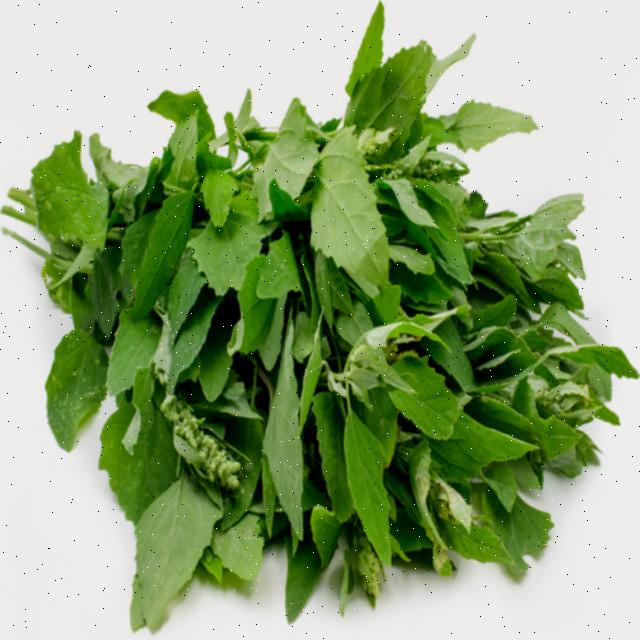NA: (20, 49, 585, 595)
